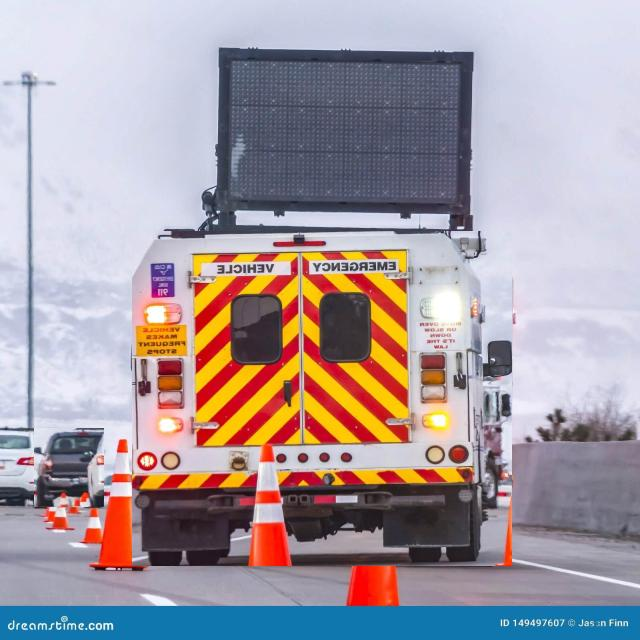car: (34, 428, 104, 507), (0, 430, 50, 509)
emergency: (132, 232, 512, 566)
